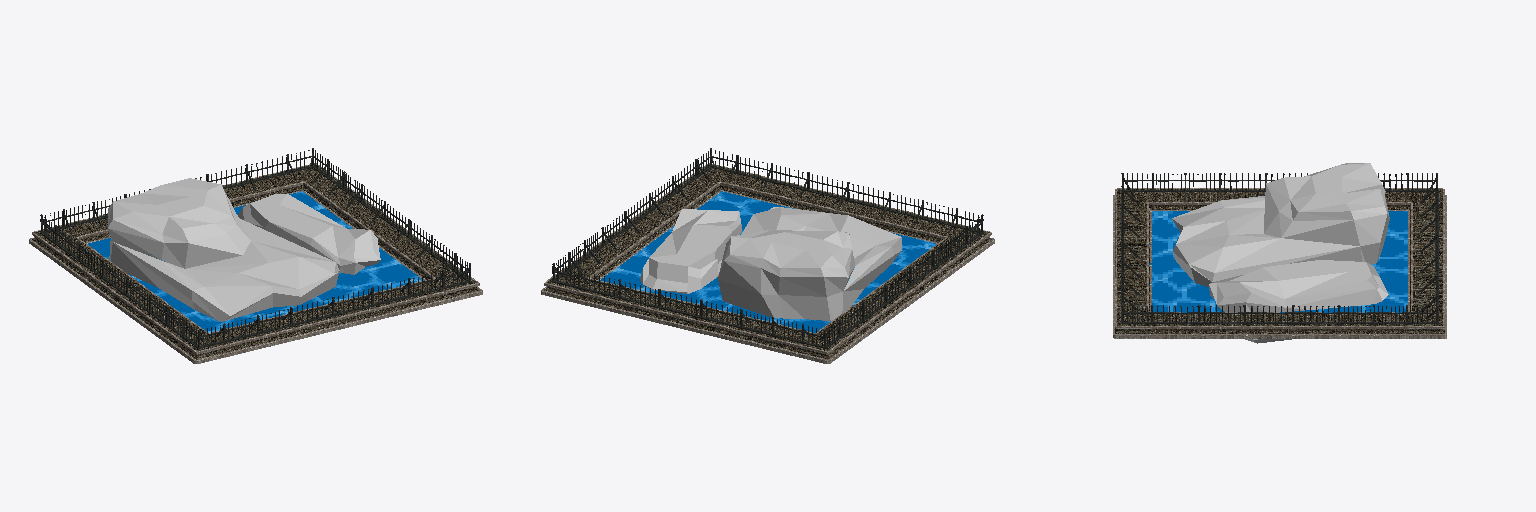
3 renders of one model, left to right at view 1: azimuth 30°, elevation 25°; view 2: azimuth 150°, elevation 25°; view 3: azimuth 270°, elevation 25°, orthographic.
Visible parts, largest first — view 1: floe, polygon2, Wrought_Iron_Fence_Double_022_022.004, Wrought_Iron_Fence_Double_022_022.002, Wrought_Iron_Fence_Double_022_022, Wrought_Iron_Fence_Double_022_022.003, Wrought_Iron_Fence_Double_022_022.006, Wrought_Iron_Fence_Double_022_022.009, Wrought_Iron_Fence_Double_022_022.010, Wrought_Iron_Fence_Double_022_022.001, Wrought_Iron_Fence_Double_022_022.005, Wrought_Iron_Fence_Double_022_022.011 (+5 smaller); view 2: floe, polygon2, Wrought_Iron_Fence_Double_022_022.007, Wrought_Iron_Fence_Double_022_022.006, Wrought_Iron_Fence_Double_022_022.004, Wrought_Iron_Fence_Double_022_022.002, Wrought_Iron_Fence_Double_022_022.001, Wrought_Iron_Fence_Double_022_022, Wrought_Iron_Fence_Double_022_022.009, Wrought_Iron_Fence_Double_022_022.010, Wrought_Iron_Fence_Double_022_022.003, Wrought_Iron_Fence_Double_022_022.008 (+6 smaller); view 3: floe, polygon2, Wrought_Iron_Fence_Double_022_022.001, Wrought_Iron_Fence_Double_022_022.003, Wrought_Iron_Fence_Double_022_022.005, Wrought_Iron_Fence_Double_022_022.011, Wrought_Iron_Fence_Double_022_022.007, Wrought_Iron_Fence_Double_022_022.004, Wrought_Iron_Fence_Double_022_022.006, Wrought_Iron_Fence_Double_022_022, Wrought_Iron_Fence_Double_022_022.002, Wrought_Iron_Fence_Corner_023_023.002 (+6 smaller).
Part boxes in pixels (bbox=[...]): floe: bbox=[108, 178, 380, 321]; polygon2: bbox=[88, 191, 423, 332]; Wrought_Iron_Fence_Double_022_022.004: bbox=[280, 287, 378, 339]; Wrought_Iron_Fence_Double_022_022.002: bbox=[361, 270, 449, 319]; Wrought_Iron_Fence_Double_022_022: bbox=[212, 307, 296, 356]; Wrought_Iron_Fence_Double_022_022.003: bbox=[383, 219, 459, 279]; Wrought_Iron_Fence_Double_022_022.006: bbox=[206, 156, 300, 207]; Wrought_Iron_Fence_Double_022_022.009: bbox=[48, 228, 125, 290]; Wrought_Iron_Fence_Double_022_022.010: bbox=[95, 263, 172, 325]; Wrought_Iron_Fence_Double_022_022.001: bbox=[337, 184, 413, 249]; Wrought_Iron_Fence_Double_022_022.005: bbox=[303, 159, 366, 215]; Wrought_Iron_Fence_Double_022_022.011: bbox=[142, 297, 205, 349]; floe: bbox=[640, 207, 901, 320]; polygon2: bbox=[600, 191, 935, 332]; Wrought_Iron_Fence_Double_022_022.007: bbox=[656, 292, 753, 342]; Wrought_Iron_Fence_Double_022_022.006: bbox=[574, 272, 672, 322]; Wrought_Iron_Fence_Double_022_022.004: bbox=[794, 172, 891, 225]; Wrought_Iron_Fence_Double_022_022.002: bbox=[723, 155, 806, 207]; Wrought_Iron_Fence_Double_022_022.001: bbox=[598, 196, 673, 259]; Wrought_Iron_Fence_Double_022_022: bbox=[876, 192, 960, 243]; Wrought_Iron_Fence_Double_022_022.009: bbox=[818, 285, 895, 349]; Wrought_Iron_Fence_Double_022_022.010: bbox=[864, 250, 942, 314]; Wrought_Iron_Fence_Double_022_022.003: bbox=[644, 162, 720, 224]; Wrought_Iron_Fence_Double_022_022.008: bbox=[738, 311, 814, 356]; floe: bbox=[1172, 163, 1389, 343]; polygon2: bbox=[1150, 210, 1407, 312]; Wrought_Iron_Fence_Double_022_022.001: bbox=[1246, 305, 1340, 338]; Wrought_Iron_Fence_Double_022_022.003: bbox=[1152, 305, 1245, 338]; Wrought_Iron_Fence_Double_022_022.005: bbox=[1340, 305, 1407, 338]; Wrought_Iron_Fence_Double_022_022.011: bbox=[1152, 173, 1218, 210]; Wrought_Iron_Fence_Double_022_022.007: bbox=[1408, 214, 1446, 278]; Wrought_Iron_Fence_Double_022_022.004: bbox=[1113, 222, 1151, 283]; Wrought_Iron_Fence_Double_022_022.006: bbox=[1408, 253, 1446, 318]; Wrought_Iron_Fence_Double_022_022: bbox=[1113, 188, 1151, 243]; Wrought_Iron_Fence_Double_022_022.002: bbox=[1113, 261, 1151, 318]; Wrought_Iron_Fence_Corner_023_023.002: bbox=[1408, 293, 1446, 338].
Size of the model in its own units: 2.12 by 0.634 by 2.12.
Materials: 20 (4 with a texture image).